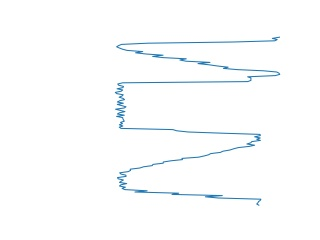distributaryChannelFill: (111, 70, 264, 143)
mouthBar: (115, 31, 283, 76)
underwaterDistributaryChannel: (116, 140, 263, 208)
